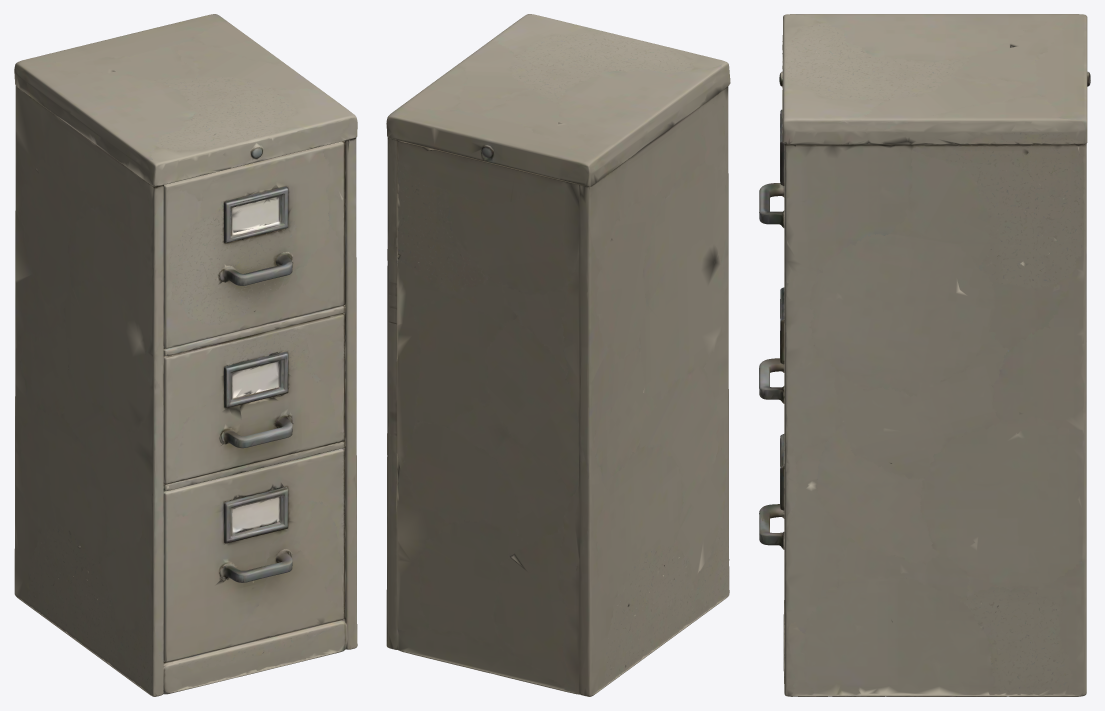
Rendered from filing_cabinet_0194476c_v3.glb.
3 views of the same model, side by side, from view 1: azimuth 30°, elevation 25°; view 2: azimuth 150°, elevation 25°; view 3: azimuth 270°, elevation 25° (orthographic). The views are drawn at different scales.
Parts seen in each view (by area): view 1: material; view 2: material; view 3: material.
Part boxes in pixels (x1=…): material: x1=14, y1=14, x2=357, y2=696; material: x1=386, y1=14, x2=730, y2=696; material: x1=759, y1=14, x2=1090, y2=696.
Bounding box in the file's own units: 0.4086 × 1.01 × 0.5275.
Materials: 1 (1 with a texture image).
